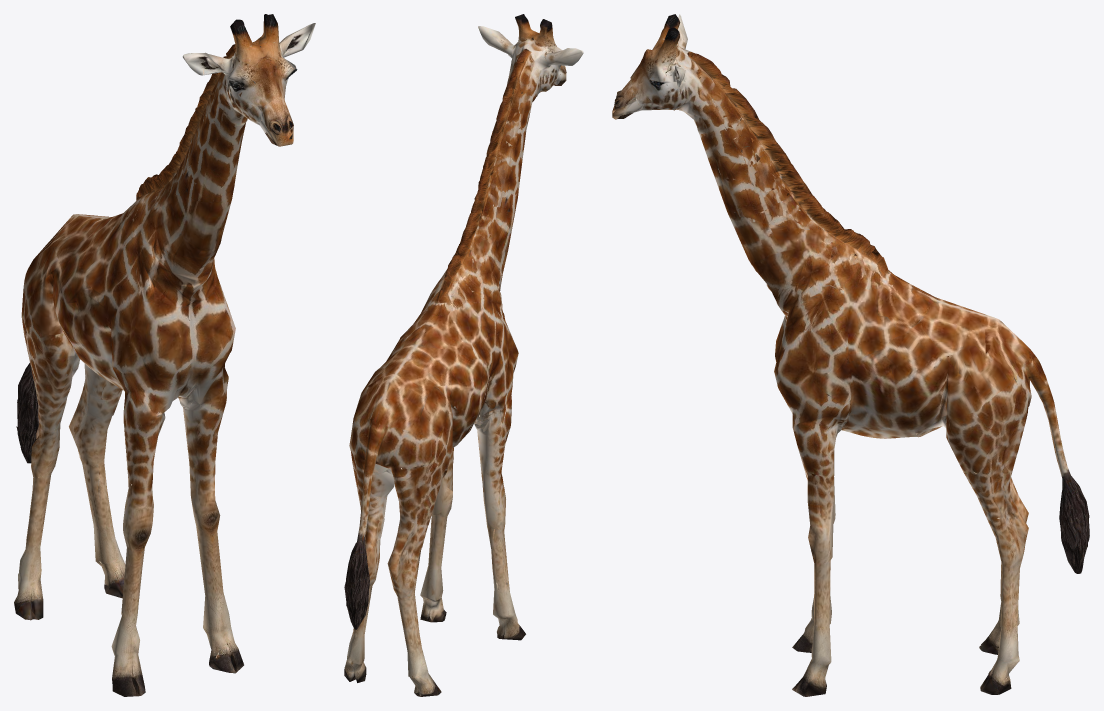
Rendered from giraffe.glb.
3 renders of one model, left to right at view 1: azimuth 30°, elevation 25°; view 2: azimuth 150°, elevation 25°; view 3: azimuth 270°, elevation 25°, orthographic. The views are drawn at different scales.
Visible parts, largest first — view 1: giraffe; view 2: giraffe; view 3: giraffe.
Part boxes in pixels (x1=…): giraffe: x1=14, y1=14, x2=315, y2=696; giraffe: x1=344, y1=14, x2=583, y2=696; giraffe: x1=612, y1=14, x2=1089, y2=696.
Size of the model in its own units: 1.01 by 5.2 by 3.47.
1 material, 1 textured.
